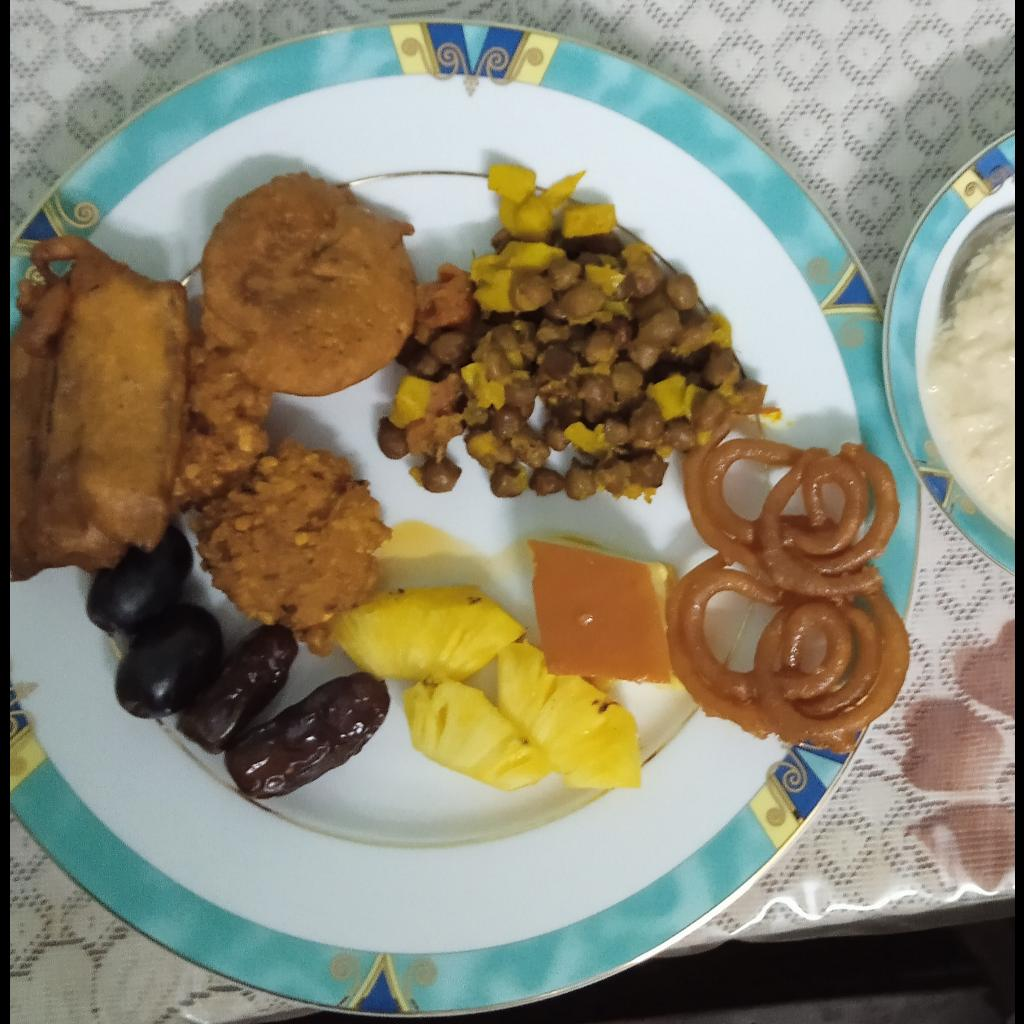beguni: (10, 234, 191, 582)
chola: (379, 165, 737, 504)
chop-alu: (197, 170, 417, 397)
dates: (175, 624, 391, 801), (86, 523, 223, 719)
jilapi: (667, 406, 910, 754)
pineapple: (324, 585, 640, 790)
piyaju: (175, 328, 393, 657)
sweets: (526, 532, 671, 683)
